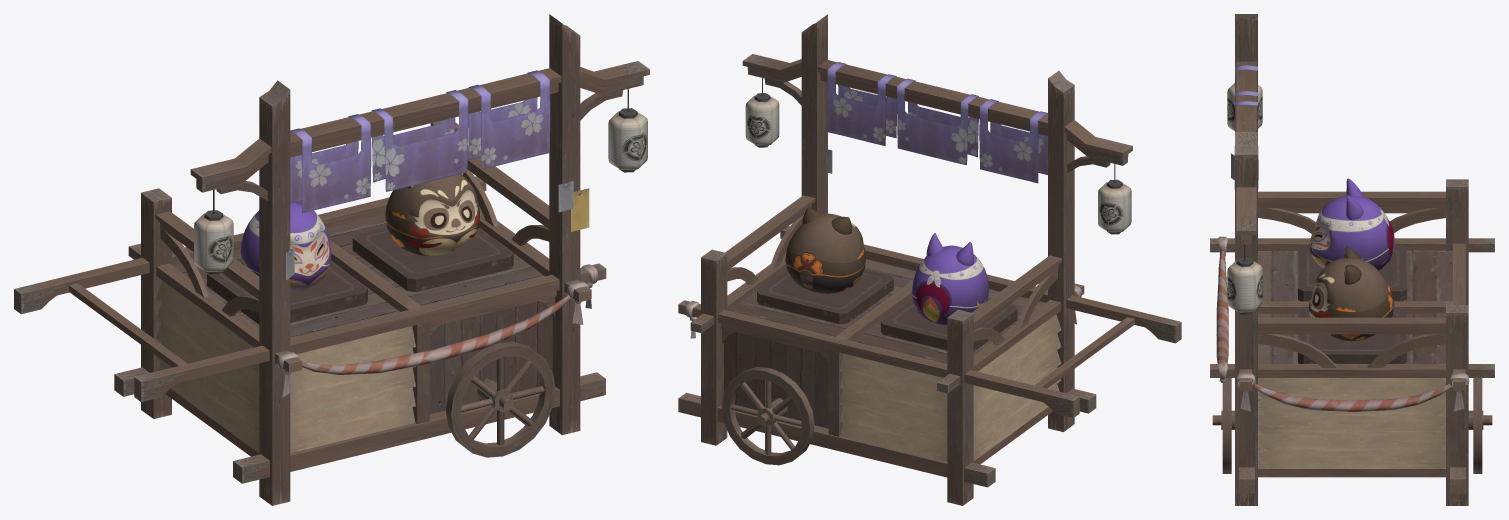
File: Homeworld_Ani_Exterior_Dq_Build_TanWei_02_Lod0.fbx
3 views of the same model, side by side, from view 1: azimuth 30°, elevation 25°; view 2: azimuth 150°, elevation 25°; view 3: azimuth 270°, elevation 25° (orthographic). The views are drawn at different scales.
Visible parts, largest first — view 1: Homeworld_Ani_Exterior_Dq_Build_TanWei_02_Lod0, Homeworld_Exterior_Dq_Build_TanWei_02_C_Vo, Homeworld_Interior_Common_Decoration_Daruma_02_Vo, Homeworld_Interior_Common_Decoration_Daruma_01_Vo, Area_Dq_Light_MS_Lamp_05_Vo, Area_Dq_Light_MS_Lamp_05_Vo (1); view 2: Homeworld_Ani_Exterior_Dq_Build_TanWei_02_Lod0, Homeworld_Exterior_Dq_Build_TanWei_02_C_Vo, Homeworld_Interior_Common_Decoration_Daruma_02_Vo, Homeworld_Interior_Common_Decoration_Daruma_01_Vo, Area_Dq_Light_MS_Lamp_05_Vo (1), Area_Dq_Light_MS_Lamp_05_Vo; view 3: Homeworld_Ani_Exterior_Dq_Build_TanWei_02_Lod0, Homeworld_Interior_Common_Decoration_Daruma_01_Vo, Homeworld_Interior_Common_Decoration_Daruma_02_Vo, Area_Dq_Light_MS_Lamp_05_Vo (1), Area_Dq_Light_MS_Lamp_05_Vo, Homeworld_Exterior_Dq_Build_TanWei_02_C_Vo.
Part boxes in pixels (x1,y1,x2,y2): Homeworld_Ani_Exterior_Dq_Build_TanWei_02_Lod0: (14, 14, 649, 505); Homeworld_Exterior_Dq_Build_TanWei_02_C_Vo: (290, 70, 550, 213); Homeworld_Interior_Common_Decoration_Daruma_02_Vo: (385, 173, 479, 255); Homeworld_Interior_Common_Decoration_Daruma_01_Vo: (240, 201, 331, 292); Area_Dq_Light_MS_Lamp_05_Vo: (194, 190, 233, 274); Area_Dq_Light_MS_Lamp_05_Vo (1): (608, 88, 647, 172); Homeworld_Ani_Exterior_Dq_Build_TanWei_02_Lod0: (678, 14, 1181, 505); Homeworld_Exterior_Dq_Build_TanWei_02_C_Vo: (827, 62, 1047, 183); Homeworld_Interior_Common_Decoration_Daruma_02_Vo: (785, 207, 865, 293); Homeworld_Interior_Common_Decoration_Daruma_01_Vo: (912, 233, 989, 324); Area_Dq_Light_MS_Lamp_05_Vo (1): (745, 78, 779, 147); Area_Dq_Light_MS_Lamp_05_Vo: (1098, 164, 1131, 234); Homeworld_Ani_Exterior_Dq_Build_TanWei_02_Lod0: (1210, 14, 1494, 505); Homeworld_Interior_Common_Decoration_Daruma_01_Vo: (1309, 178, 1395, 270); Homeworld_Interior_Common_Decoration_Daruma_02_Vo: (1308, 247, 1394, 341); Area_Dq_Light_MS_Lamp_05_Vo (1): (1227, 244, 1262, 314); Area_Dq_Light_MS_Lamp_05_Vo: (1227, 83, 1262, 130); Homeworld_Exterior_Dq_Build_TanWei_02_C_Vo: (1234, 65, 1258, 189).
Size of the model in its own units: 3.79 by 2.95 by 2.08.
